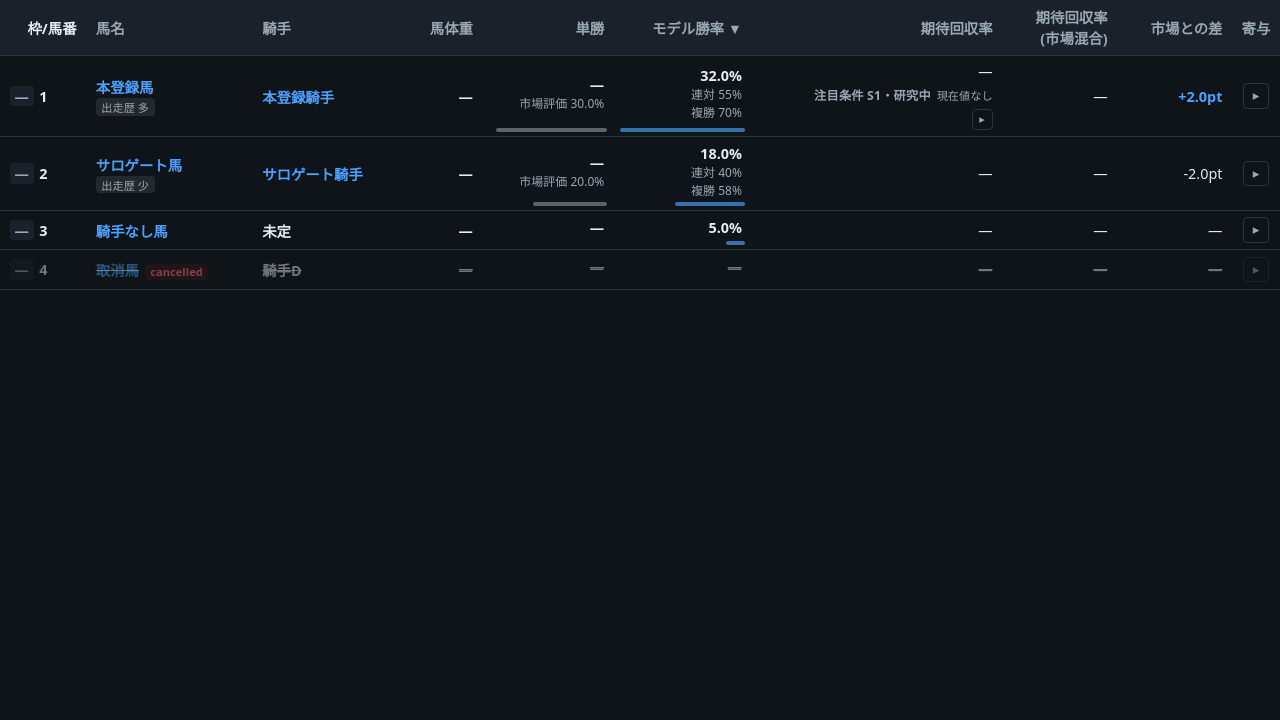
Test case: HorseEntriesTable 注目条件 (138) › keeps the chip with 「現在値なし」 while market-ev is 再計算待ち (US1 scenario 11)
This screenshot has width=1280, height=720.
Expected: the column heading "期待回収率" is shown, top-left (752, 0), bottom-right (1002, 55)
Expected: the cell "— 注目条件 S1・研究中 現在値なし ▸" is shown, top-left (752, 55), bottom-right (1002, 137)
Click the button named "注目条件の内訳": (982, 120) top-left (972, 109), bottom-right (993, 130)
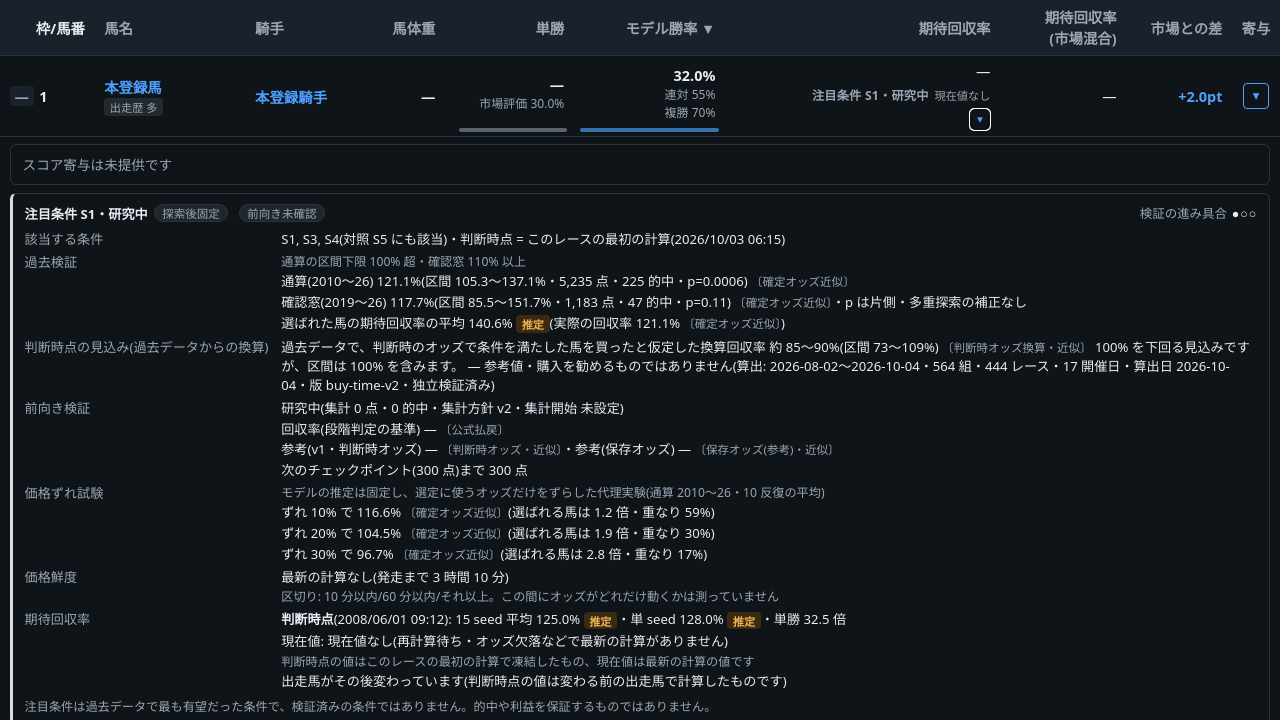
Now the text with test id "attention-field-changed" shows "出走馬がその後変わっています", box top-left (281, 672), bottom-right (787, 690)
